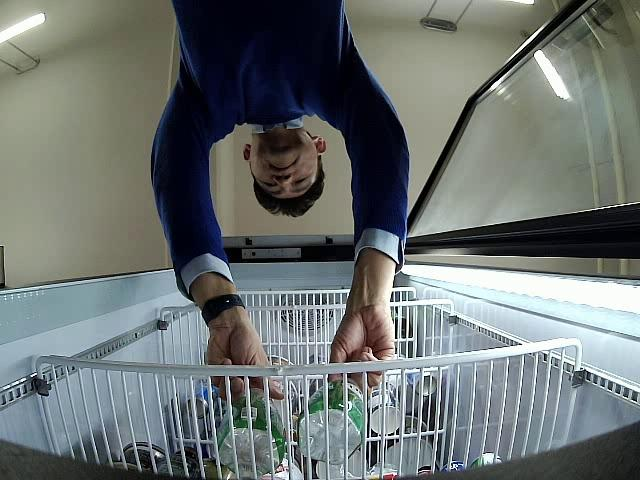00_hand: (332, 269, 396, 385), (207, 313, 283, 399)
18_trevi: (217, 389, 286, 479), (299, 379, 365, 464)
